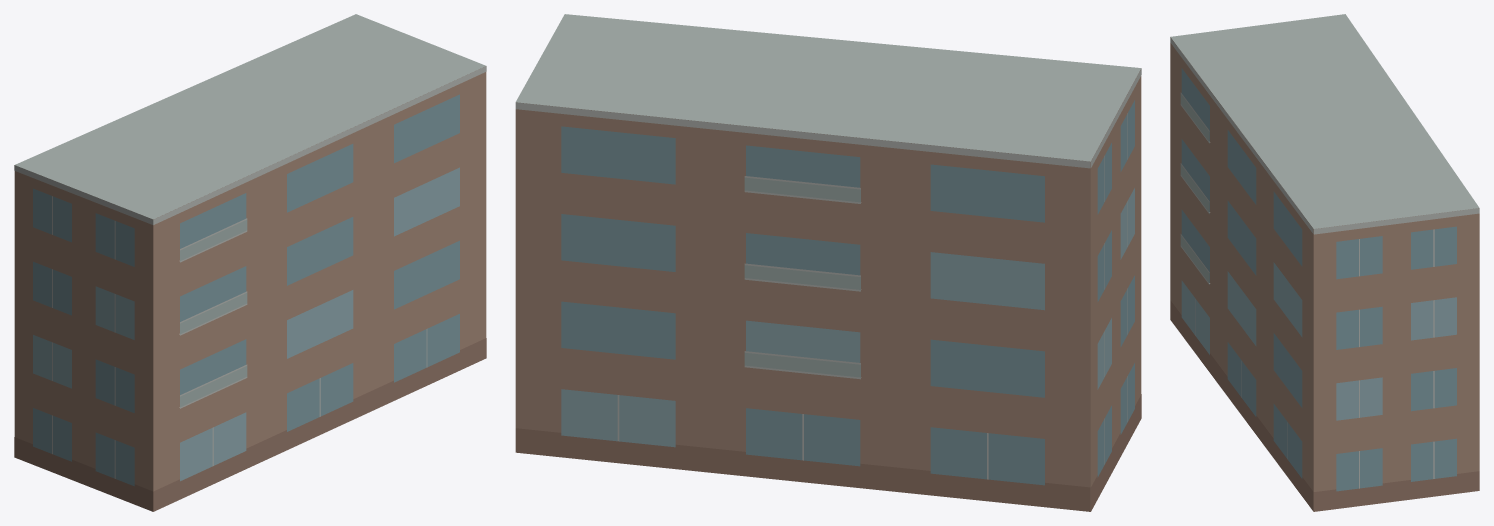
File: survey-upis-32800157.glb
3 renders of one model, left to right at view 1: azimuth 30°, elevation 25°; view 2: azimuth 150°, elevation 25°; view 3: azimuth 270°, elevation 25°, orthographic. The views are drawn at different scales.
Parts seen in each view (by area): view 1: survey-upis-32800157.tmp; view 2: survey-upis-32800157.tmp; view 3: survey-upis-32800157.tmp.
Boxes of the visible parts, box(x1,y1,x2,y2) form: survey-upis-32800157.tmp: box(14, 14, 486, 511); survey-upis-32800157.tmp: box(515, 14, 1141, 511); survey-upis-32800157.tmp: box(1170, 14, 1479, 511).
Size of the model in its own units: 20.23 by 12.4 by 12.3.
